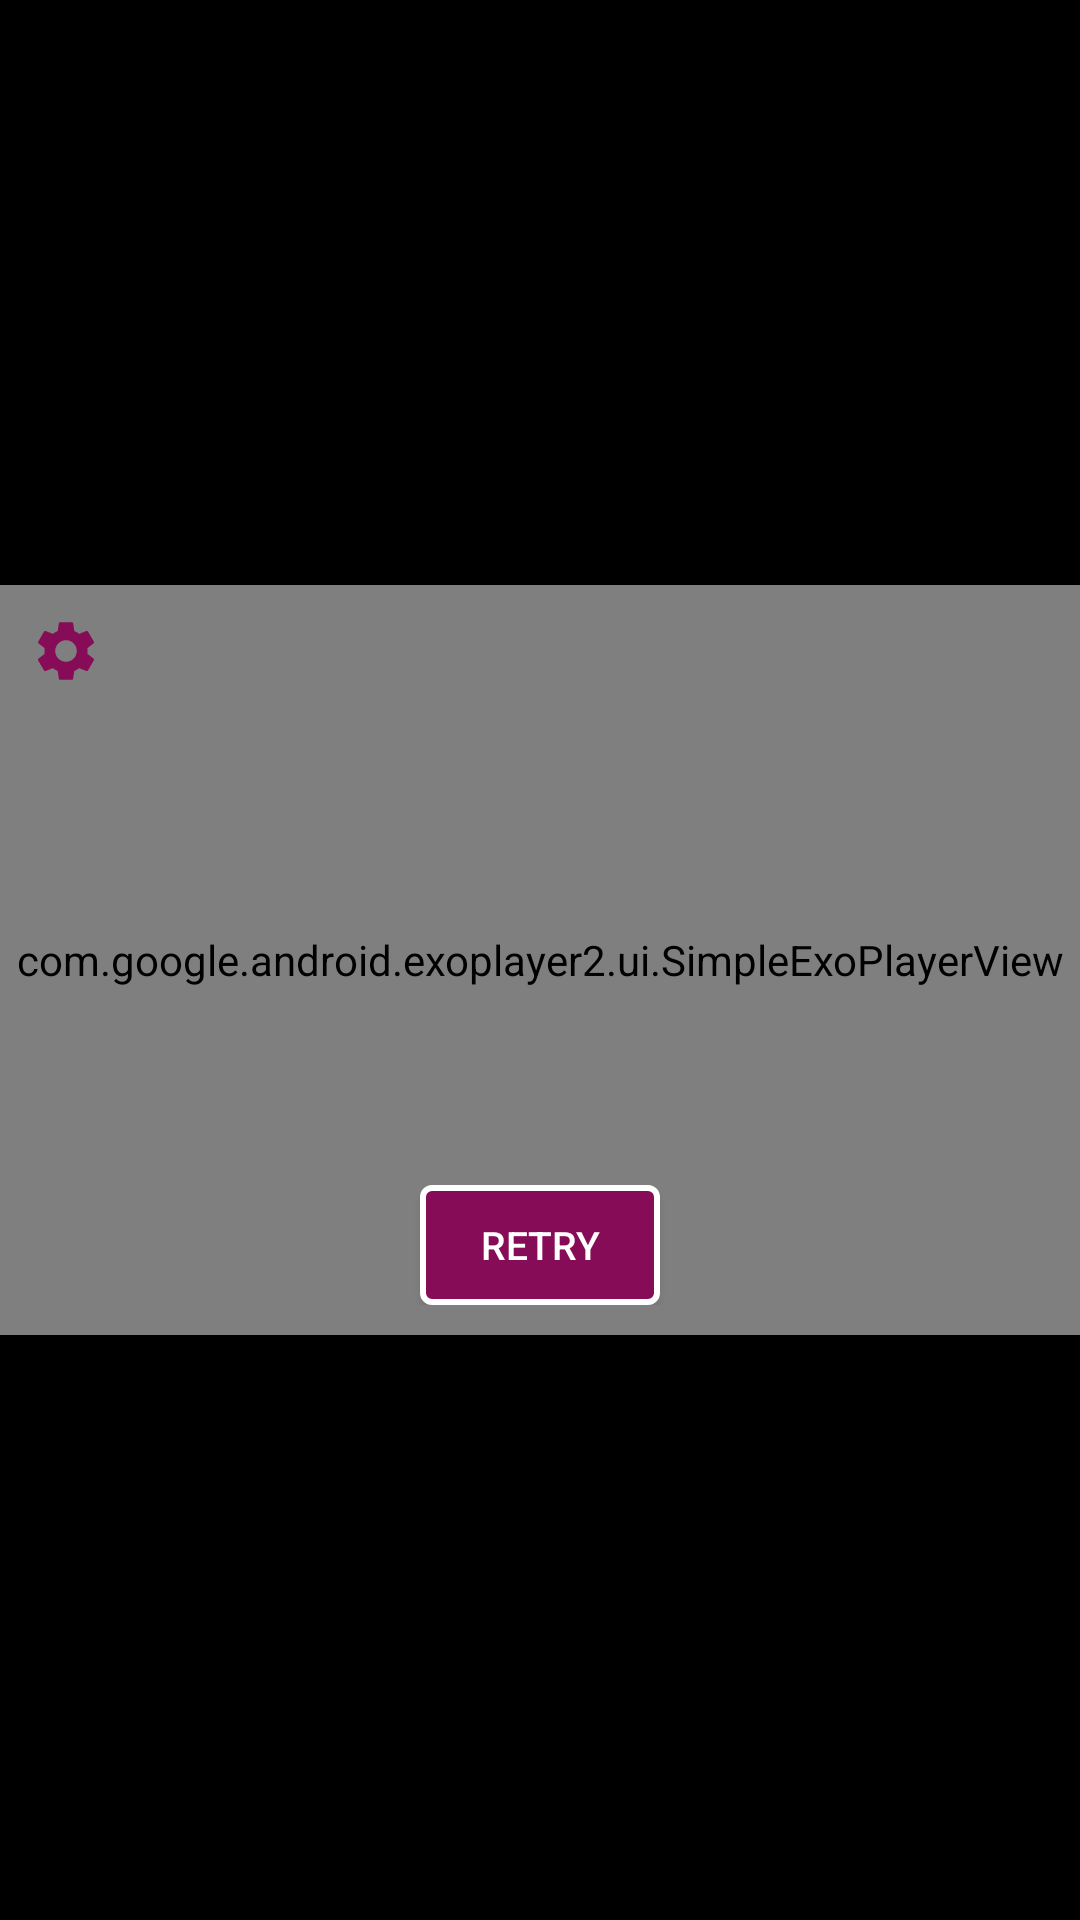

Icons on this 1080px×1920px Android screen, each with its box as (x1, y1, x2, y2):
settings: (38, 622, 94, 680)
